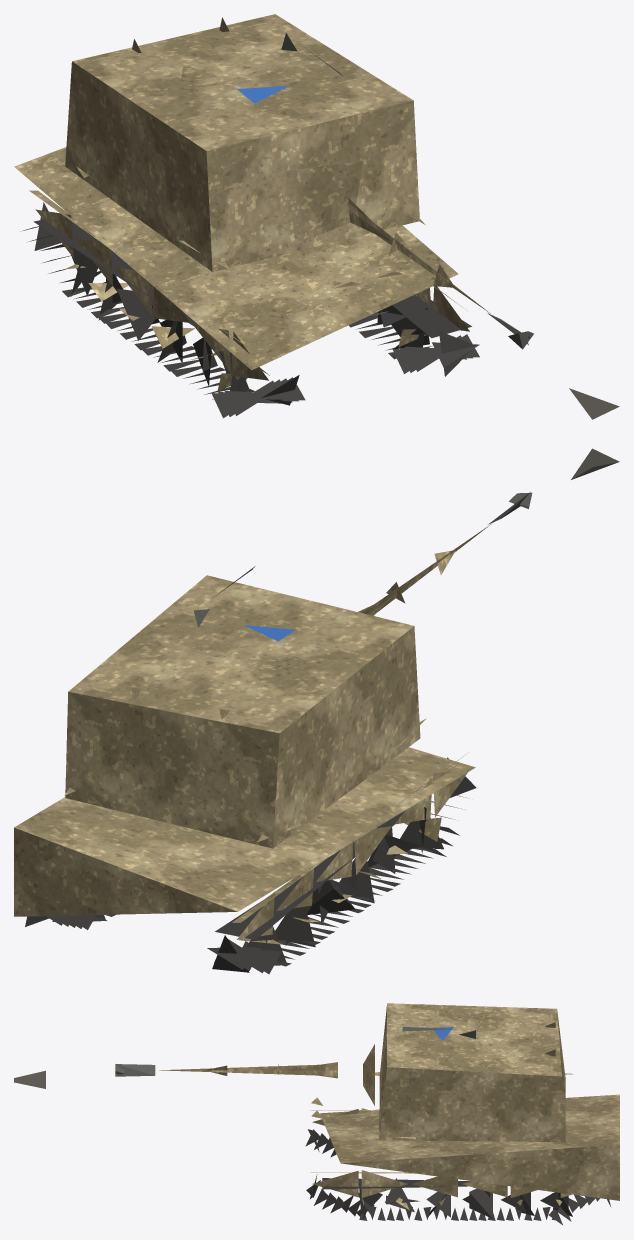
Rendered from art_e4_us_sph_LOD2.glb.
3 renders of one model, top to bottom at view 1: azimuth 30°, elevation 25°; view 2: azimuth 150°, elevation 25°; view 3: azimuth 270°, elevation 25°, orthographic. The views are drawn at different scales.
Visible parts, largest first — view 1: art_e4_us_sph_LOD2_body, art_e4_us_sph_LOD2_track, art_e4_us_sph_LOD2_gun, art_e4_us_sph_LOD2_deck; view 2: art_e4_us_sph_LOD2_body, art_e4_us_sph_LOD2_track; view 3: art_e4_us_sph_LOD2_body, art_e4_us_sph_LOD2_track, art_e4_us_sph_LOD2_gun, art_e4_us_sph_LOD2_deck.
Part boxes in pixels (box(x1,y1,x2,y2)): art_e4_us_sph_LOD2_body: box(14, 14, 490, 391); art_e4_us_sph_LOD2_track: box(23, 202, 479, 418); art_e4_us_sph_LOD2_gun: box(281, 33, 533, 349); art_e4_us_sph_LOD2_deck: box(569, 388, 619, 419); art_e4_us_sph_LOD2_body: box(14, 524, 491, 944); art_e4_us_sph_LOD2_track: box(25, 757, 476, 974); art_e4_us_sph_LOD2_body: box(159, 1003, 619, 1210); art_e4_us_sph_LOD2_track: box(305, 1129, 611, 1224); art_e4_us_sph_LOD2_gun: box(115, 1027, 475, 1076); art_e4_us_sph_LOD2_deck: box(14, 1070, 45, 1088).
Bounding box in the file's own units: 3.15 × 3.78 × 11.71.
6 materials, 1 textured.
